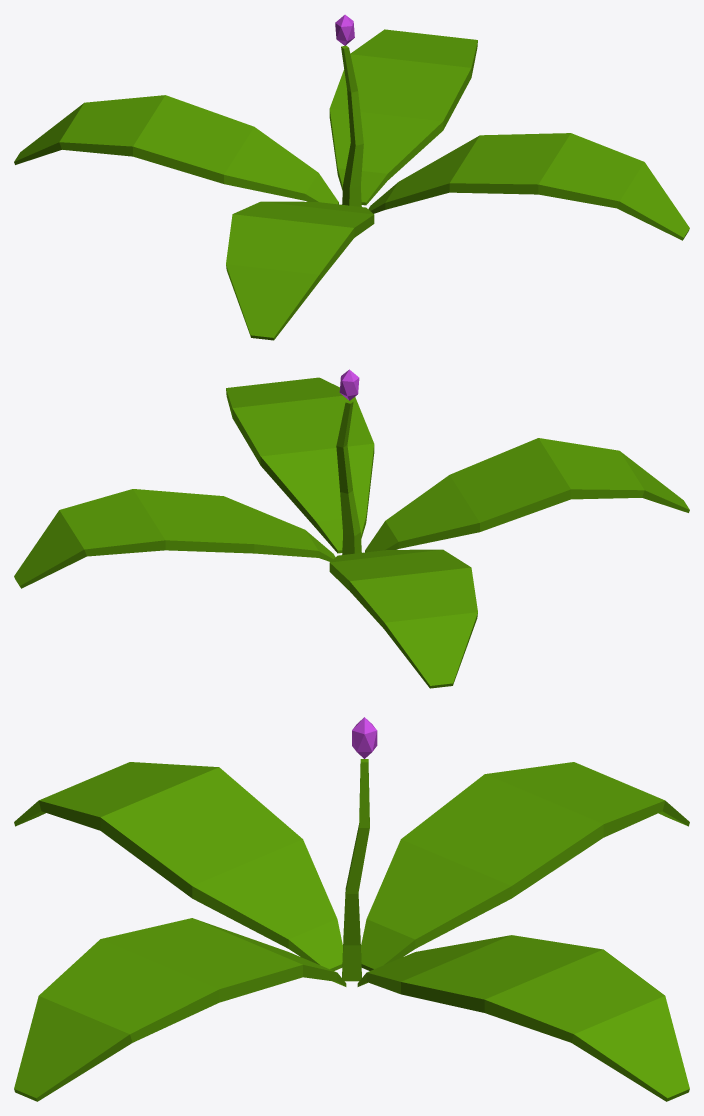
The model's file is result.gltf.
The picture shows the model from 3 angles, top to bottom: view 1: azimuth 30°, elevation 25°; view 2: azimuth 150°, elevation 25°; view 3: azimuth 270°, elevation 25°; orthographic projection. The views are drawn at different scales.
Parts seen in each view (by area): view 1: Plant_2; view 2: Plant_2; view 3: Plant_2.
Part boxes in pixels (x1,y1,x2,y2): Plant_2: (14, 14, 689, 340); Plant_2: (14, 369, 689, 688); Plant_2: (14, 717, 689, 1101).
Size of the model in its own units: 137 by 57.75 by 137.
